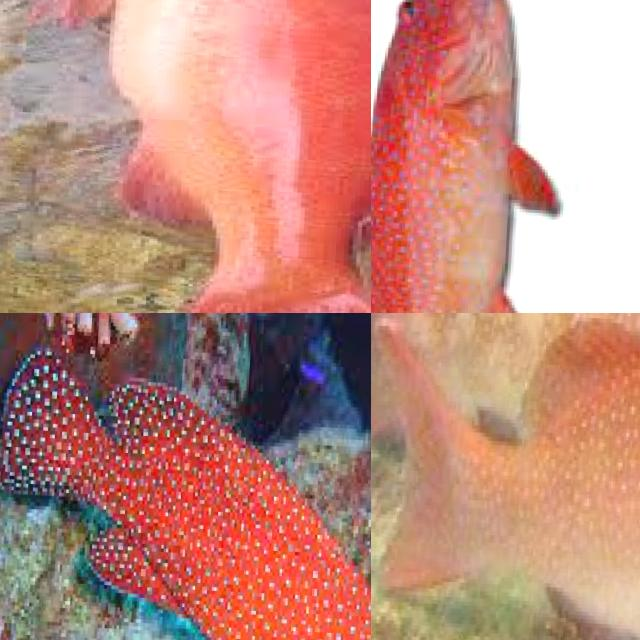Leopard coral grouper: (0, 324, 371, 640), (43, 0, 371, 313), (371, 313, 640, 640), (371, 0, 594, 313)
